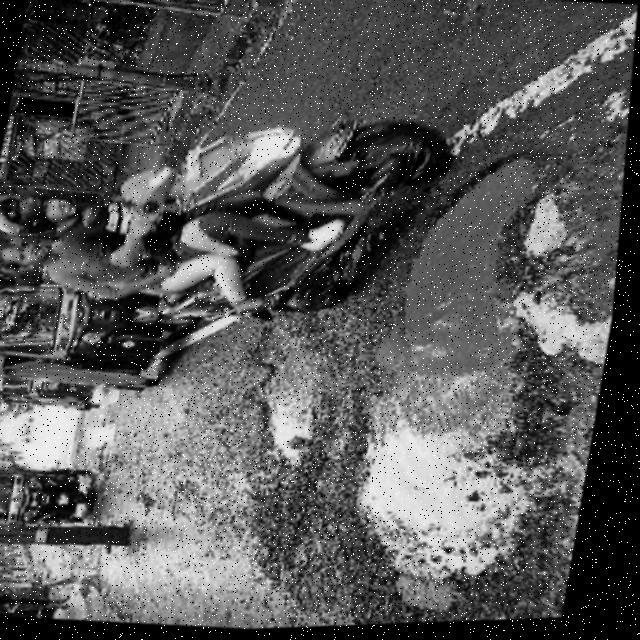pothole: (333, 139, 597, 596), (244, 338, 348, 474)
